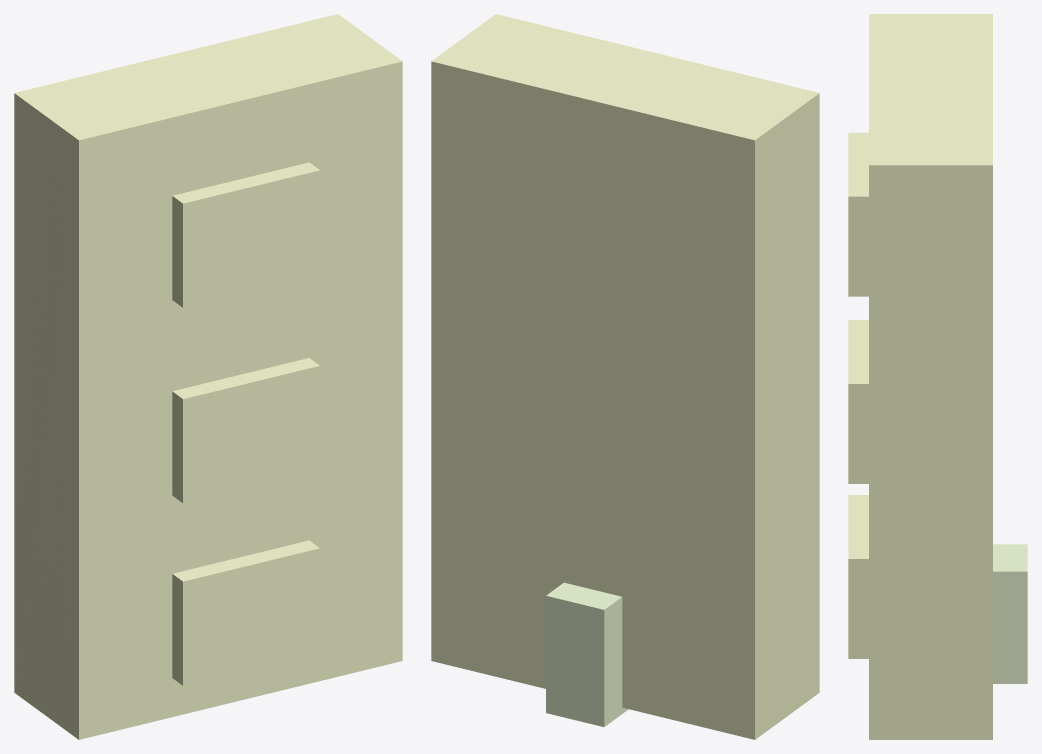
The model's file is signal_pedestrian_bicycle_compact_3_aspect.glb.
3 renders of one model, left to right at view 1: azimuth 30°, elevation 25°; view 2: azimuth 150°, elevation 25°; view 3: azimuth 270°, elevation 25°, orthographic. The views are drawn at different scales.
Parts seen in each view (by area): view 1: housing, display_ped_white, display_bike_green, display_ped_red; view 2: housing, bracket; view 3: housing, bracket, display_ped_red, display_ped_white, display_bike_green.
Part boxes in pixels (x1,y1,x2,y2): housing: (14,14,402,739); display_ped_white: (172,358,319,503); display_bike_green: (172,540,319,685); display_ped_red: (172,162,319,307); housing: (431,14,819,739); bracket: (546,582,628,726); housing: (869,14,992,739); bracket: (993,544,1027,683); display_ped_red: (848,132,868,296); display_ped_white: (848,320,868,483); display_bike_green: (848,495,868,658).
Size of the model in its own units: 0.52 by 0.93 by 0.26.
